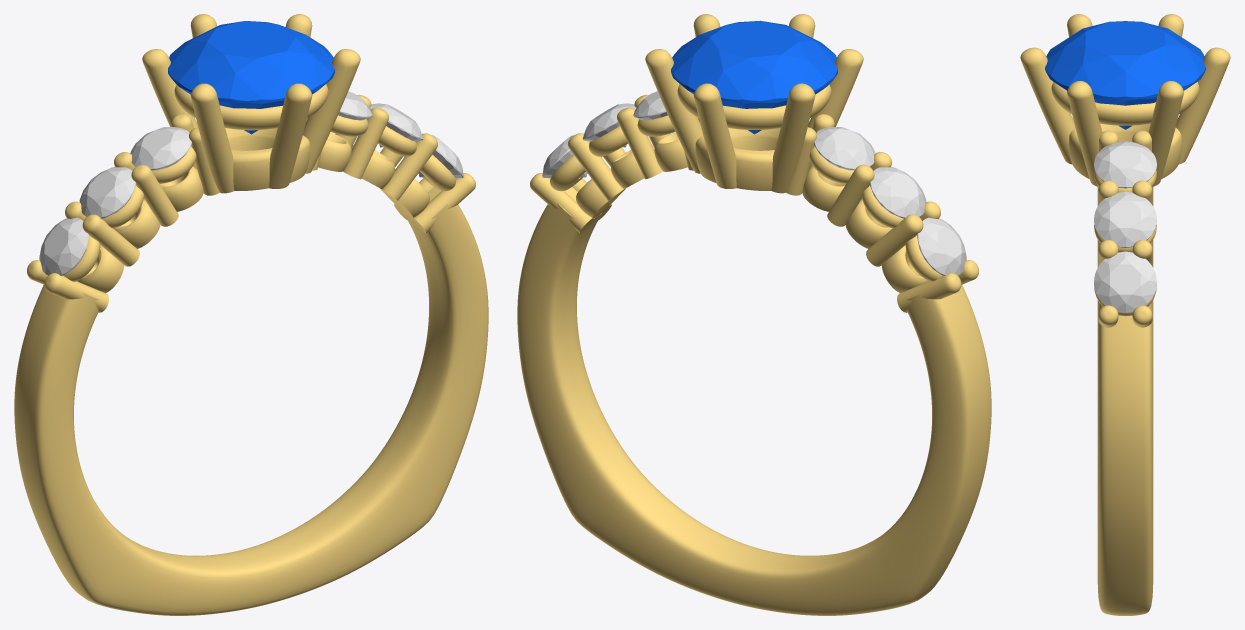
File: bluesapphire-round-yellowgold-6prong-europeanshank-3stone.glb
The picture shows the model from 3 angles, left to right: view 1: azimuth 30°, elevation 25°; view 2: azimuth 150°, elevation 25°; view 3: azimuth 270°, elevation 25°; orthographic projection. The views are drawn at different scales.
Visible parts, largest first — view 1: metal, stone, side.002, side.001, side, side.004, side.003, side.005; view 2: metal, stone, side.002, side.001, side, side.004, side.003, side.005; view 3: metal, stone, side.005, side.004, side.003.
Part boxes in pixels (x1,y1,x2,y2): metal: (14,14,488,615); stone: (168,21,334,134); side.002: (39,217,88,275); side.001: (79,167,135,218); side: (130,127,191,170); side.004: (369,103,423,147); side.003: (338,91,372,120); side.005: (418,133,463,178); metal: (517,14,991,615); stone: (671,20,837,134); side.002: (917,217,966,275); side.001: (870,167,926,218); side: (814,127,875,170); side.004: (582,103,636,147); side.003: (633,91,667,120); side.005: (542,133,587,177); metal: (1020,14,1230,615); stone: (1045,21,1205,129); side.005: (1094,251,1156,312); side.004: (1094,191,1156,247); side.003: (1094,141,1156,188).
Bounding box in the file's own units: 20.11 × 23.61 × 8.35.
